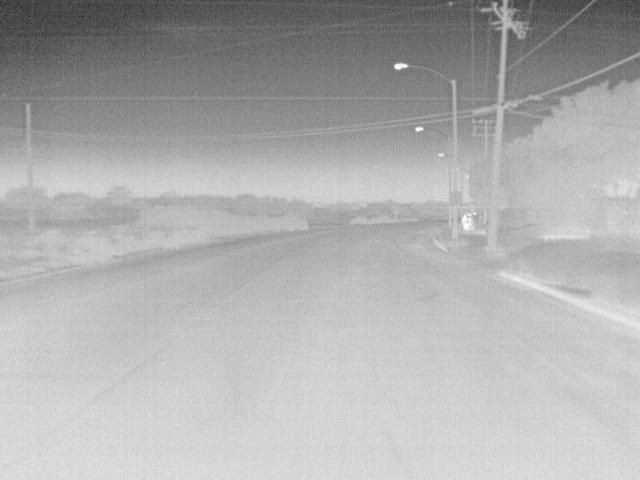person: (459, 214, 471, 232)
